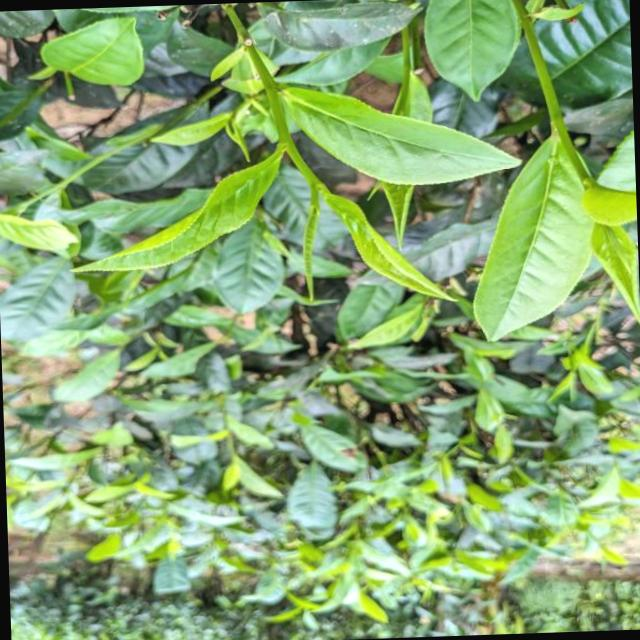Stem: (550, 111, 563, 127), (279, 134, 291, 148)
